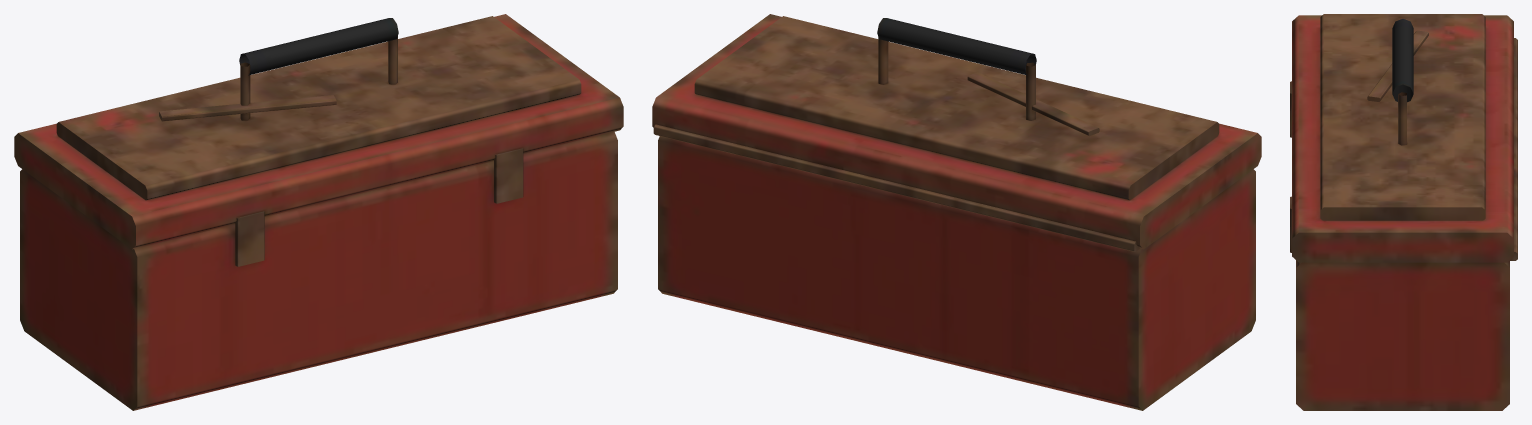
File: toolbox.glb
3 views of the same model, side by side, from view 1: azimuth 30°, elevation 25°; view 2: azimuth 150°, elevation 25°; view 3: azimuth 270°, elevation 25° (orthographic). The views are drawn at different scales.
Visible parts, largest first — view 1: toolbox; view 2: toolbox; view 3: toolbox.
Boxes of the visible parts, x1=… form: toolbox: x1=14, y1=14, x2=623, y2=410; toolbox: x1=652, y1=14, x2=1261, y2=410; toolbox: x1=1290, y1=14, x2=1517, y2=410.
Bounding box in the file's own units: 0.528 × 0.286 × 0.234.
Materials: 1 (1 with a texture image).
